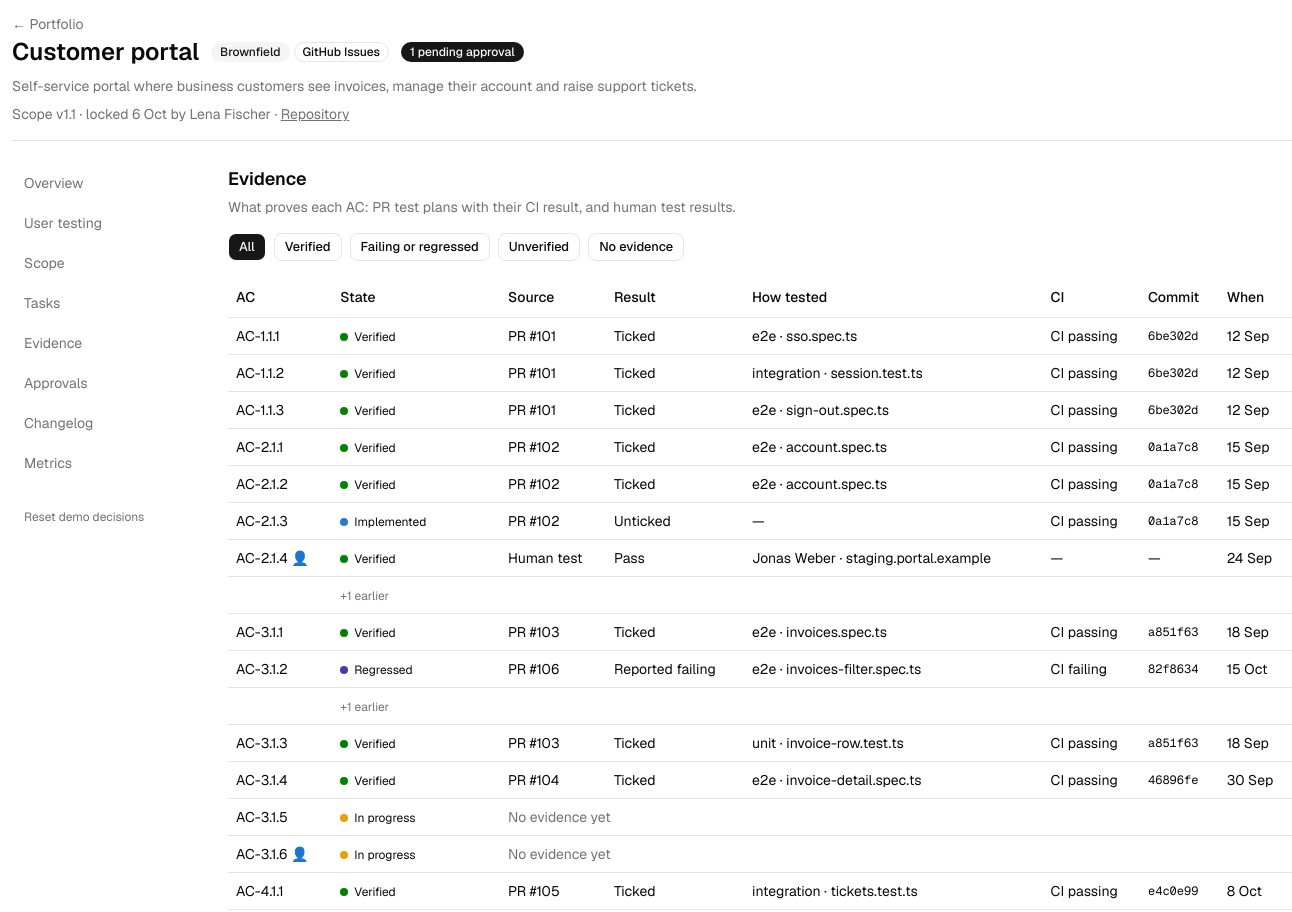
Scenario: EvidenceView › filters by state and by missing evidence
Click the button "Failing or regressed". click: (420, 247)
box: [350,233,490,261]
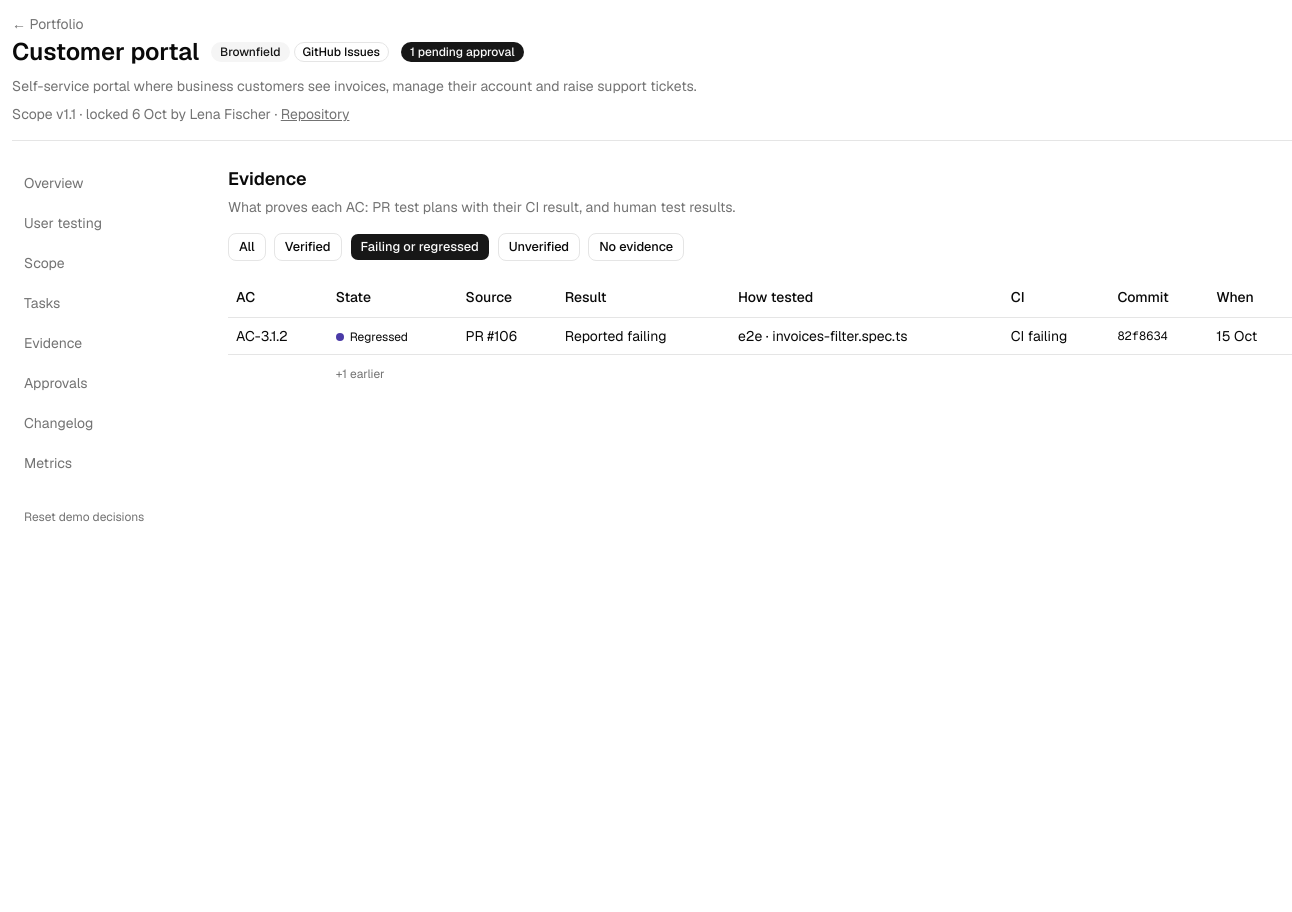
Check: the elements "AC-" read "AC-3.1.2", in this order, box [228,317,328,354]
Click the button "No evidence". click: (636, 247)
box: [588,233,684,261]
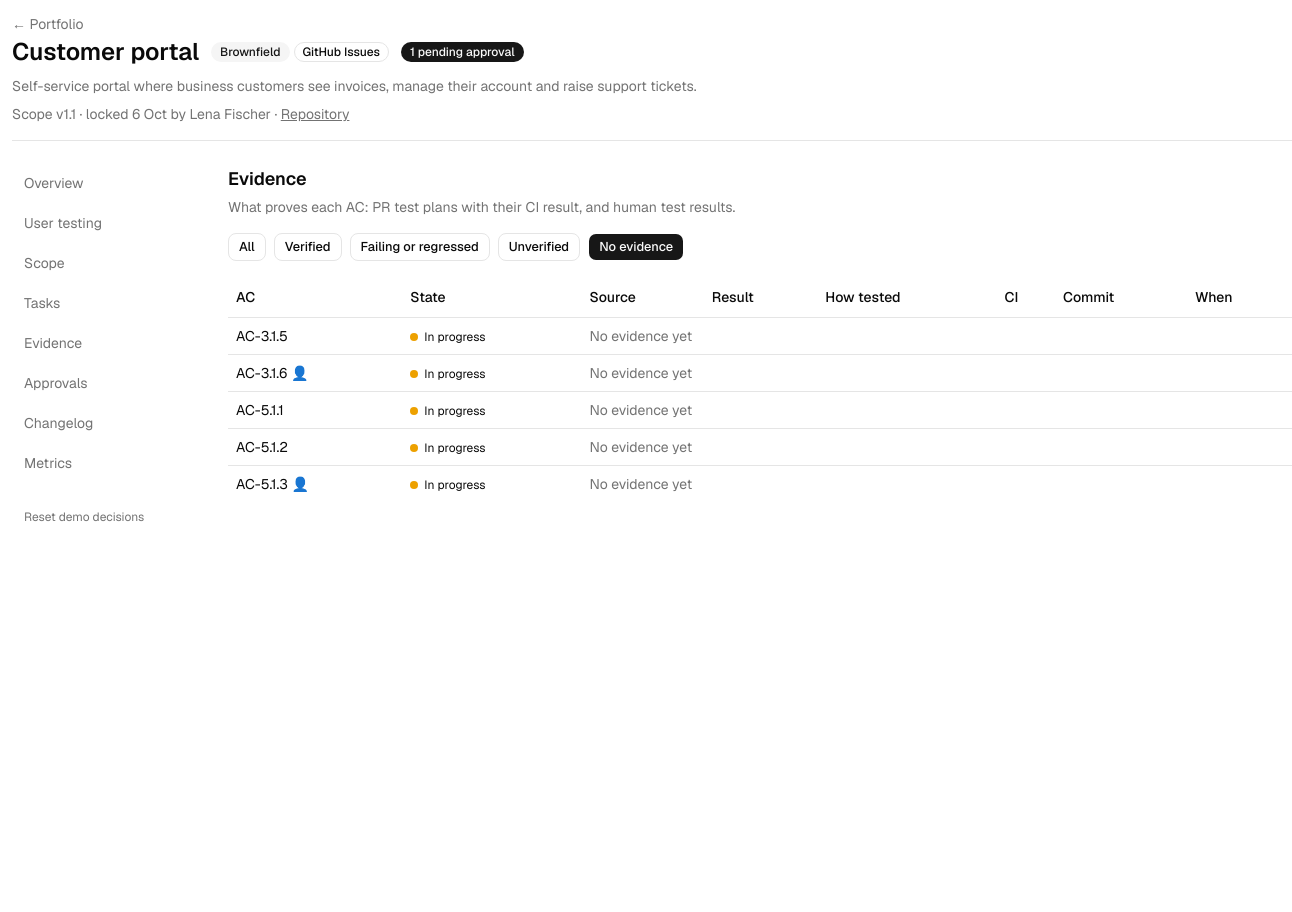
Check: the text "AC-3.1.5" is shown, box [228,317,402,354]
Check: the text "AC-3.1.5 In progress No evidence yet" is shown, box [228,317,1291,354]
Check: the text "AC-3.1.6 👤 In progress No evidence yet" is shown, box [228,354,1291,391]
